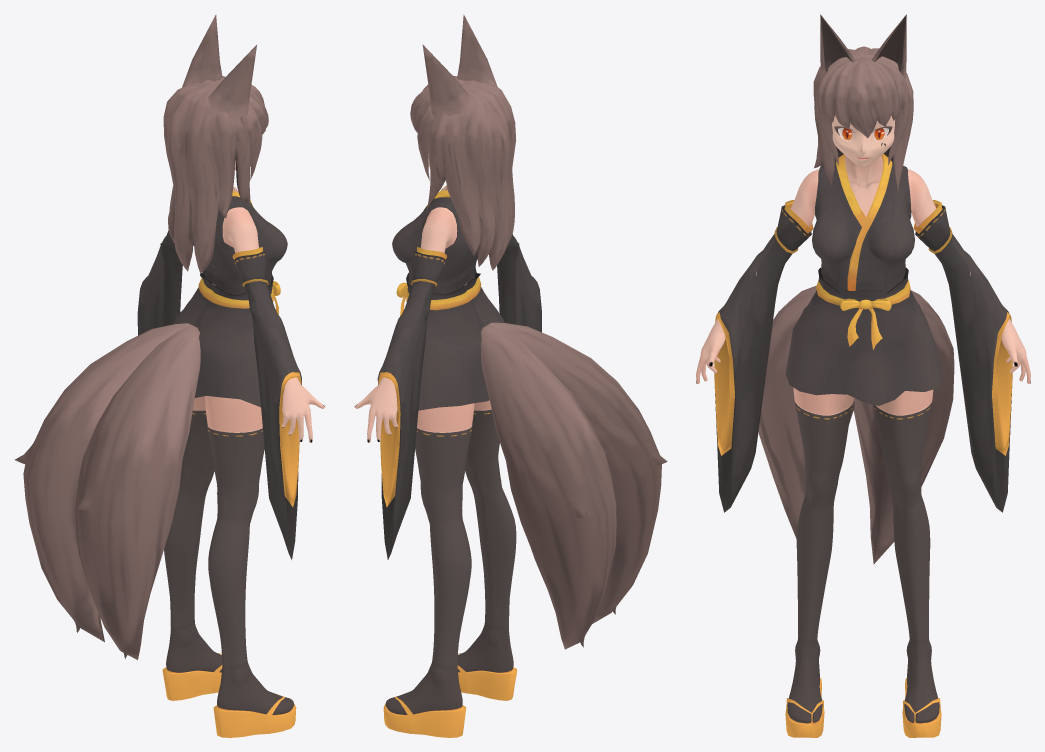
The model's file is akiko.glb.
3 renders of one model, left to right at view 1: azimuth 30°, elevation 25°; view 2: azimuth 150°, elevation 25°; view 3: azimuth 270°, elevation 25°, orthographic. The views are drawn at different scales.
Visible parts, largest first — view 1: LOD0; view 2: LOD0; view 3: LOD0.
Boxes of the visible parts, left/top/right/bottom form: LOD0: left=14, top=15, right=325, bottom=737; LOD0: left=354, top=14, right=667, bottom=737; LOD0: left=696, top=14, right=1030, bottom=737.
Size of the model in its own units: 3.78 by 10.7 by 4.56.
Materials: 2 (2 with a texture image).
